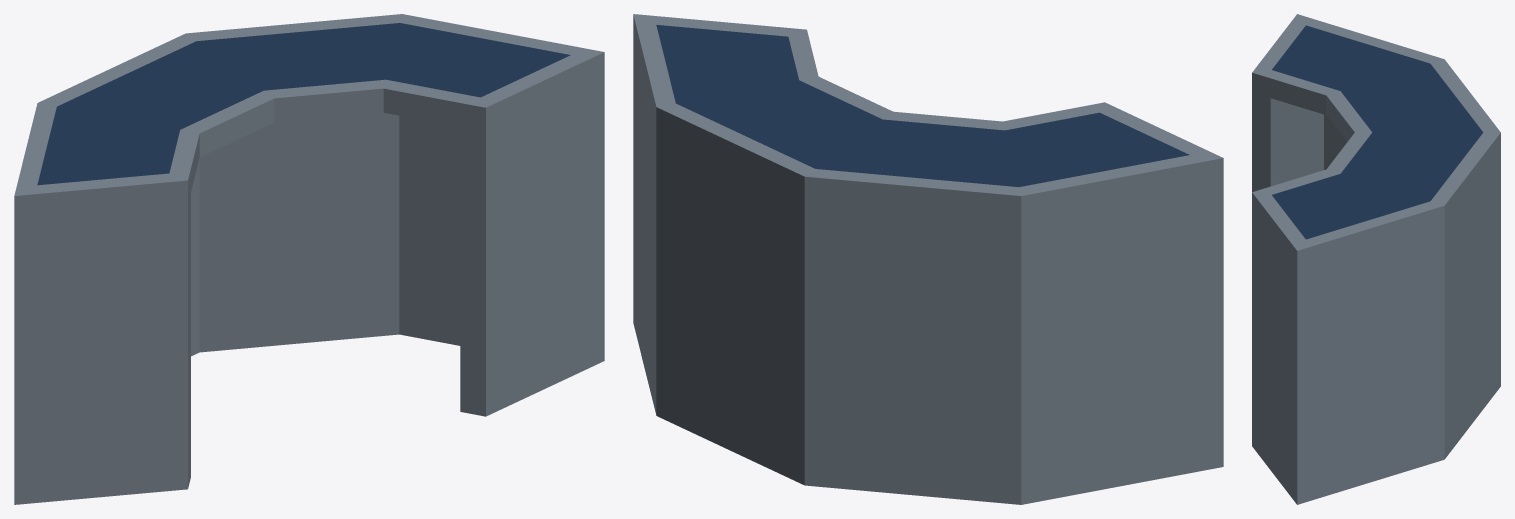
Rendered from worker-table.fbx.
3 views of the same model, side by side, from view 1: azimuth 30°, elevation 25°; view 2: azimuth 150°, elevation 25°; view 3: azimuth 270°, elevation 25° (orthographic). The views are drawn at different scales.
Parts seen in each view (by area): view 1: Cylinder; view 2: Cylinder; view 3: Cylinder.
Boxes of the visible parts, <box> form: Cylinder: <box>14,14,604,504</box>; Cylinder: <box>633,14,1223,504</box>; Cylinder: <box>1252,14,1500,504</box>.
Size of the model in its own units: 161 by 80.31 by 71.29.
1 material, 1 textured.
